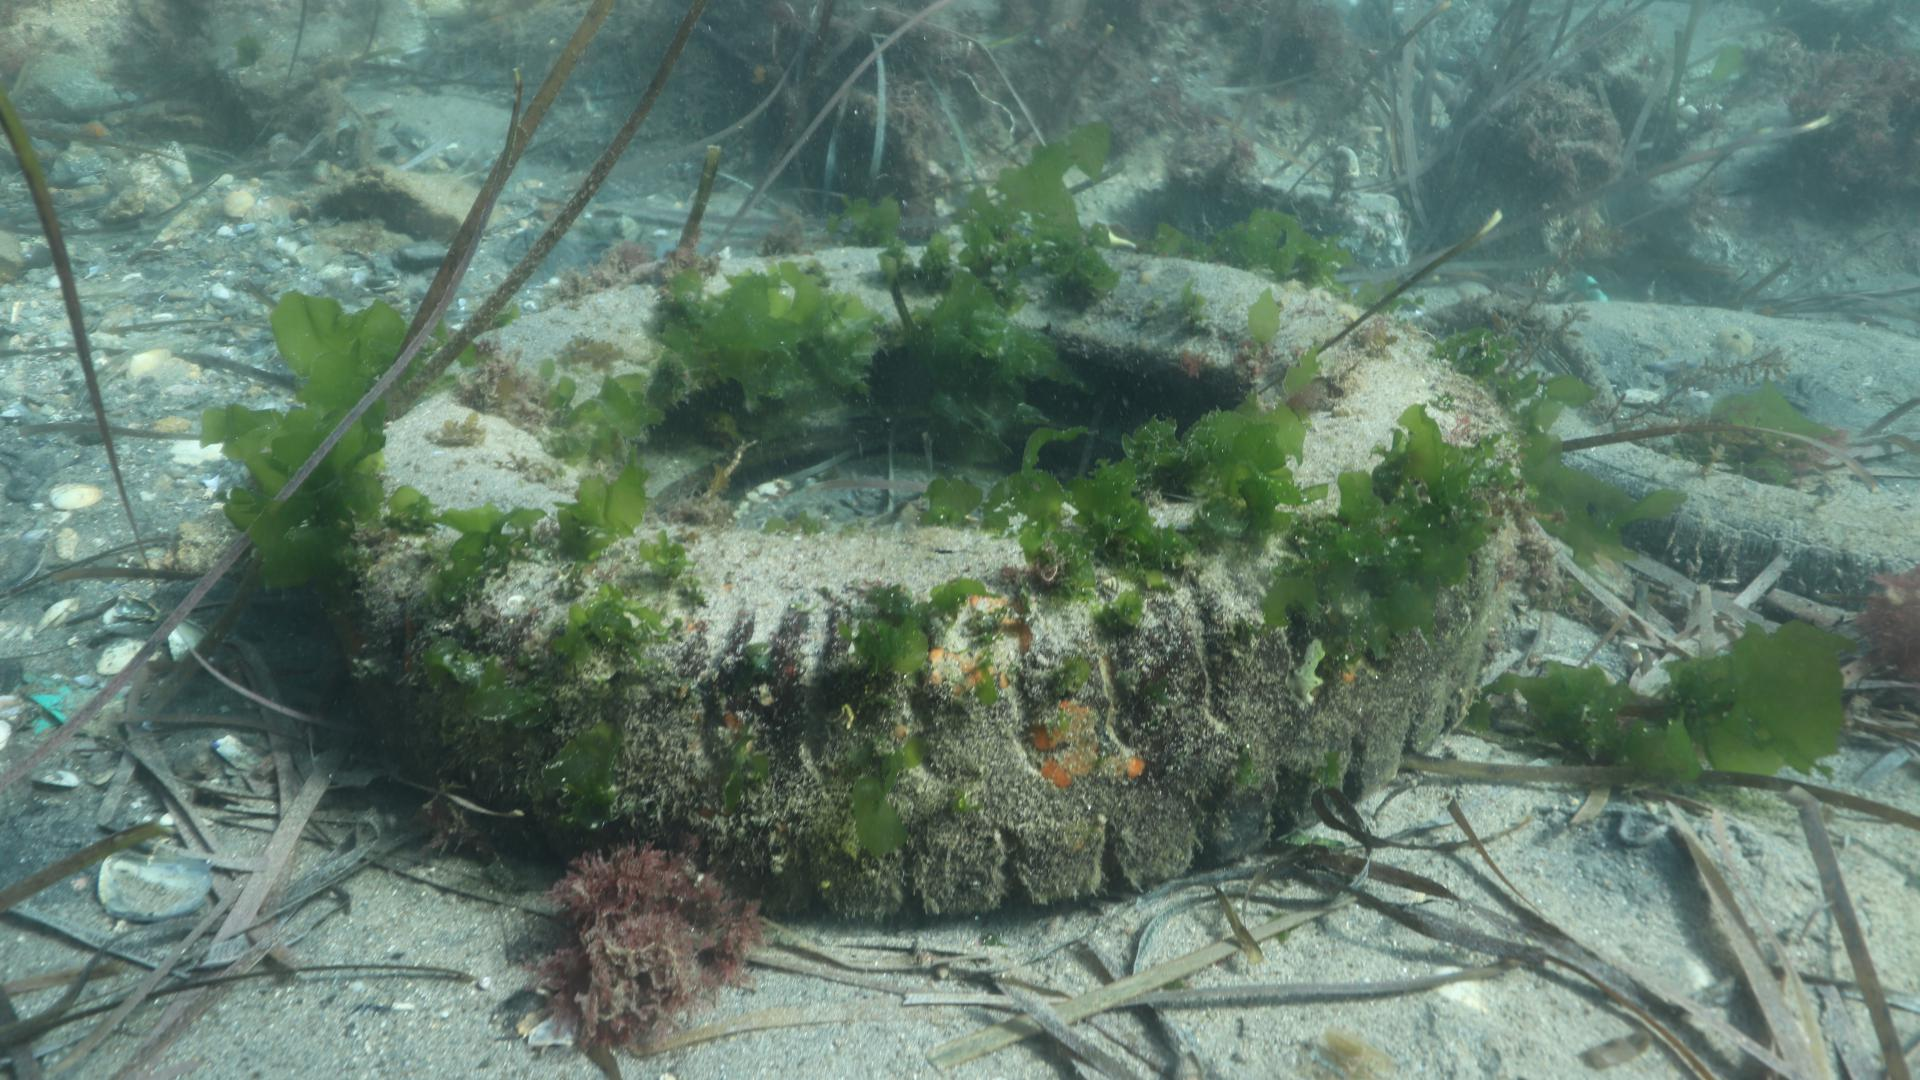rope: (1422, 291, 1619, 413)
tire: (344, 243, 1518, 915)
